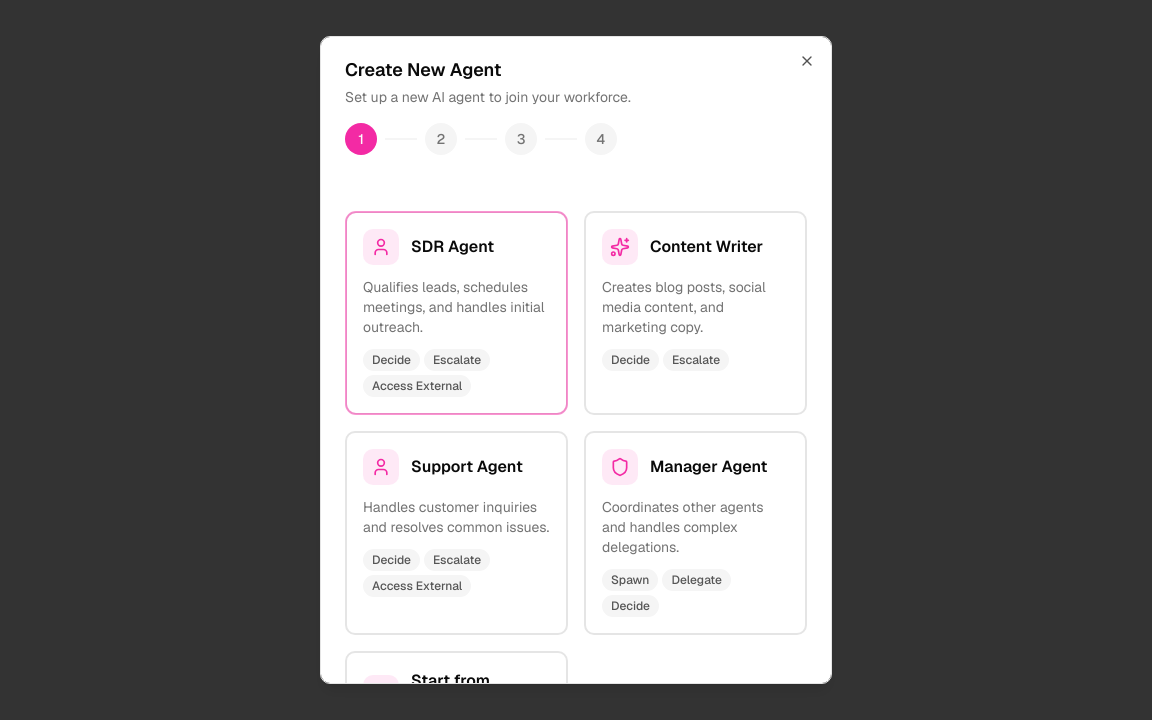
CreateAgentModal › Basic Info Step › requires name and description to proceed
Click the button "SDR Agent" at (456,313), box [345, 211, 568, 415]
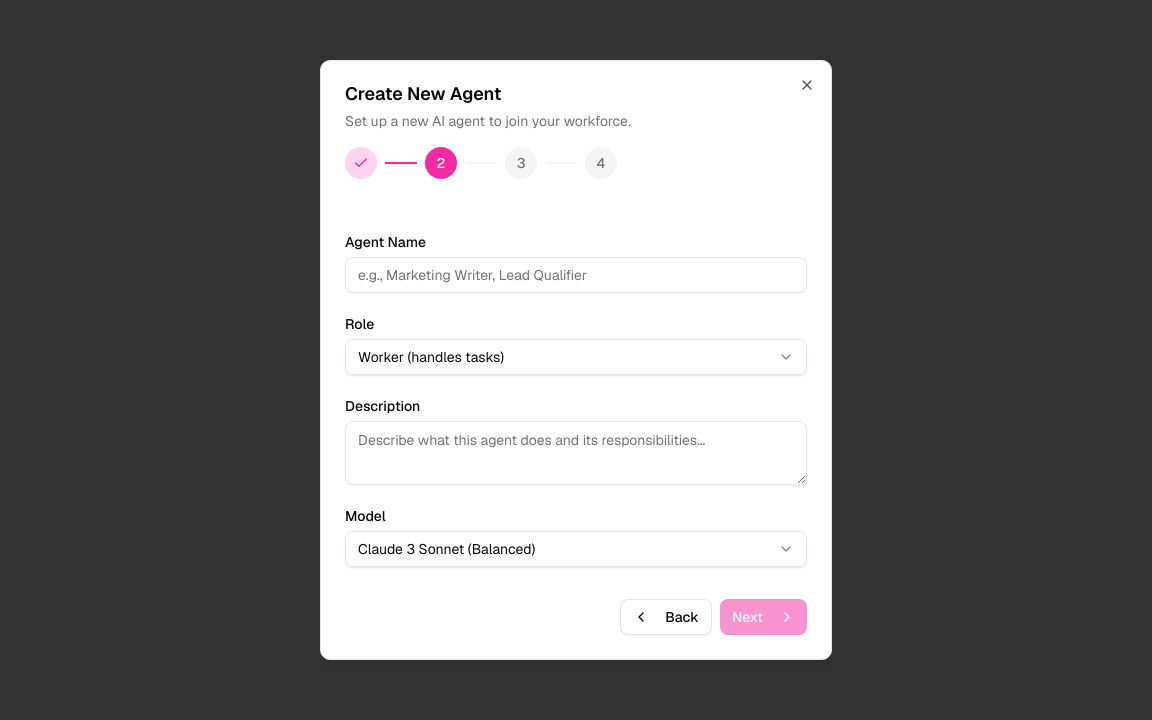
Result: the button "Next" is disabled at [720, 599, 807, 635]
Type "Test Agent" into the field labelled "Agent Name" at (576,275), box [345, 257, 807, 293]
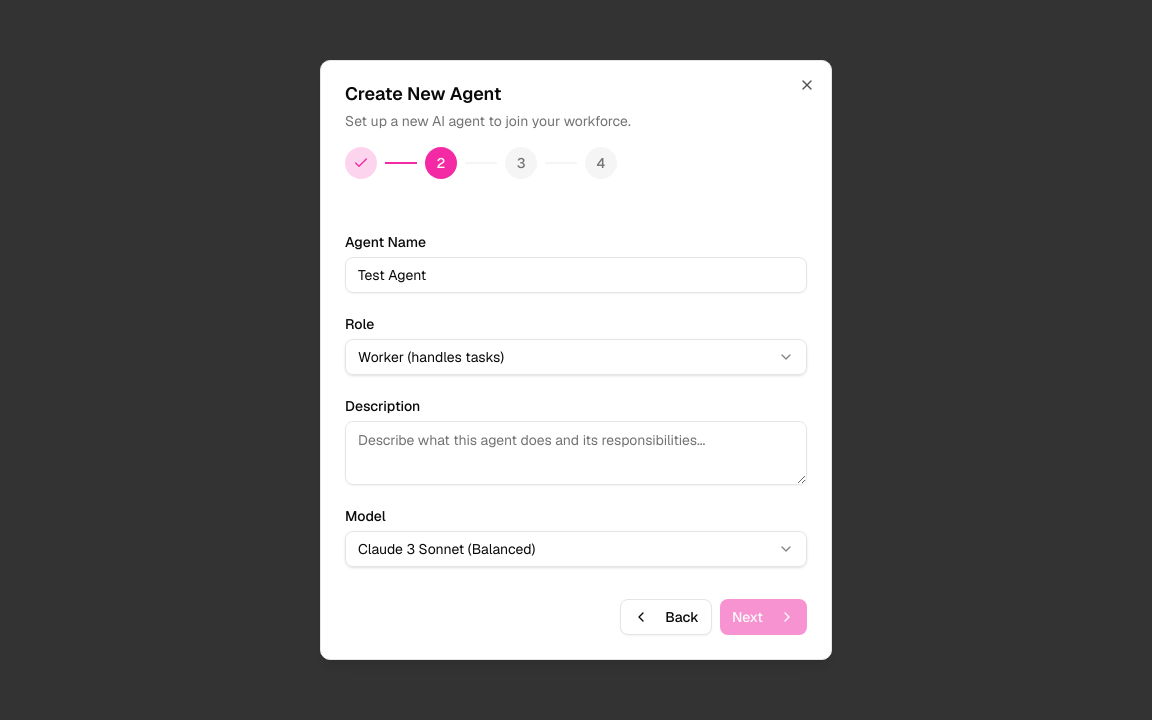
Result: the button "Next" is disabled at [720, 599, 807, 635]
Type "Test description" into the text box labelled "Description" at (576,453), box [345, 421, 807, 485]
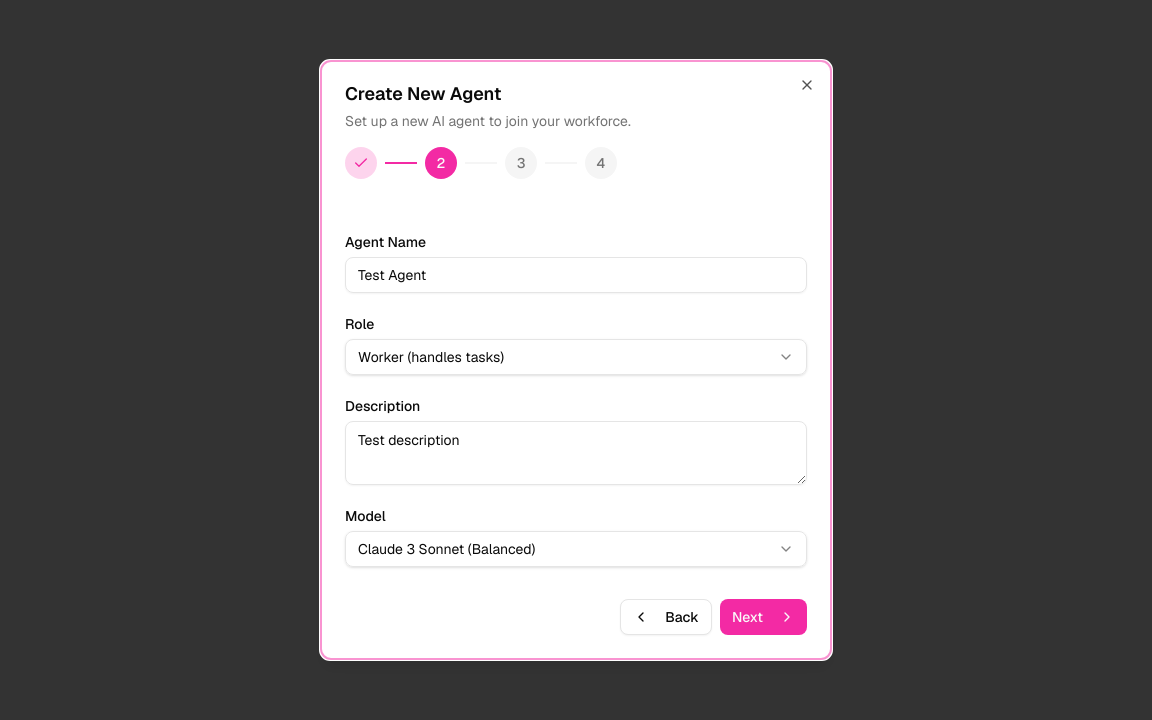
Result: the button "Next" is enabled at [720, 599, 807, 635]
